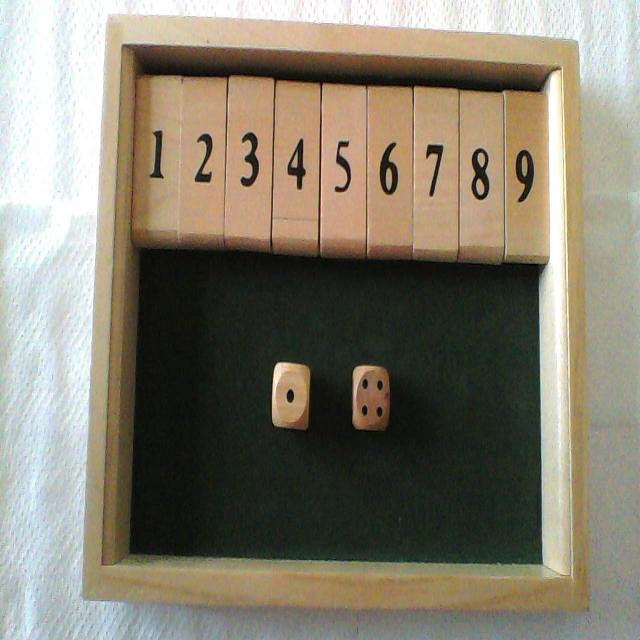1: (268, 354, 312, 441)
4: (348, 359, 394, 438)
C1: (133, 16, 181, 250)
C2: (182, 17, 226, 251)
C3: (226, 18, 274, 252)
C4: (274, 20, 322, 254)
C5: (322, 22, 367, 258)
C6: (369, 27, 412, 260)
C7: (414, 29, 458, 262)
C8: (462, 31, 502, 265)
C9: (507, 34, 549, 264)
